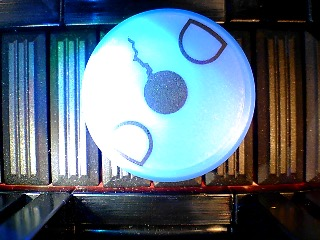CRACK: (80, 7, 256, 183)
